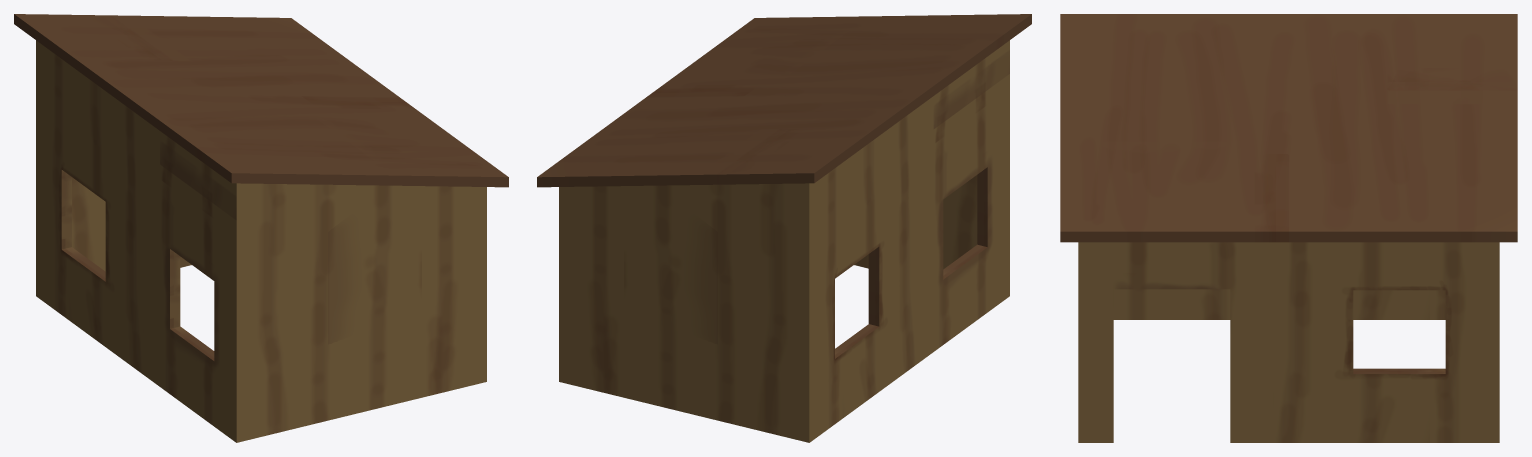
The model's file is Shack.fbx.
The picture shows the model from 3 angles, left to right: view 1: azimuth 30°, elevation 25°; view 2: azimuth 150°, elevation 25°; view 3: azimuth 270°, elevation 25°; orthographic projection. The views are drawn at different scales.
Parts seen in each view (by area): view 1: Shack; view 2: Shack; view 3: Shack.
Part boxes in pixels (bbox=[...]): Shack: bbox=[14, 14, 508, 442]; Shack: bbox=[537, 14, 1031, 442]; Shack: bbox=[1060, 14, 1517, 442].
Size of the model in its own units: 268 by 258 by 365.
Materials: 1 (1 with a texture image).
